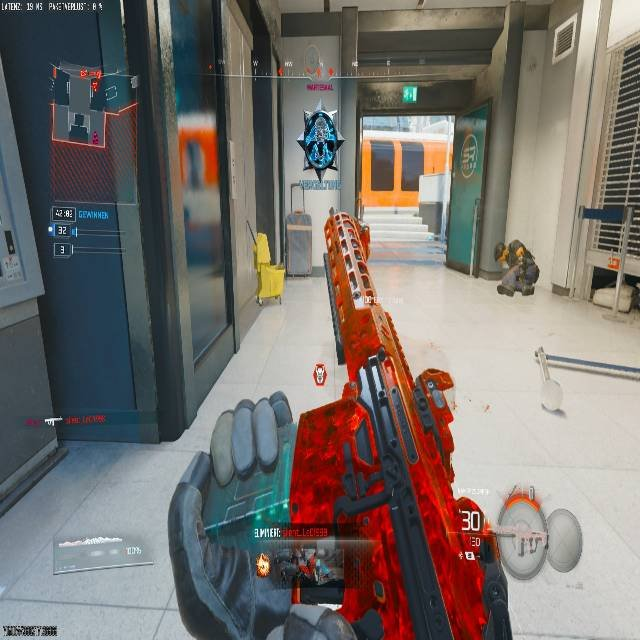player: (298, 108, 336, 180), (494, 240, 539, 297)
